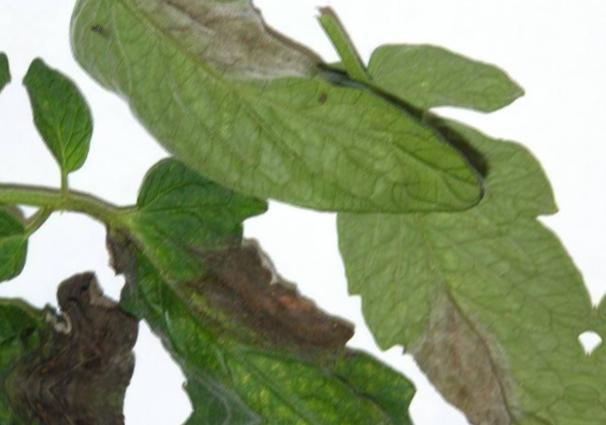Tomato leaf late blight: (269, 35, 606, 425), (25, 0, 505, 242), (91, 159, 497, 425)
